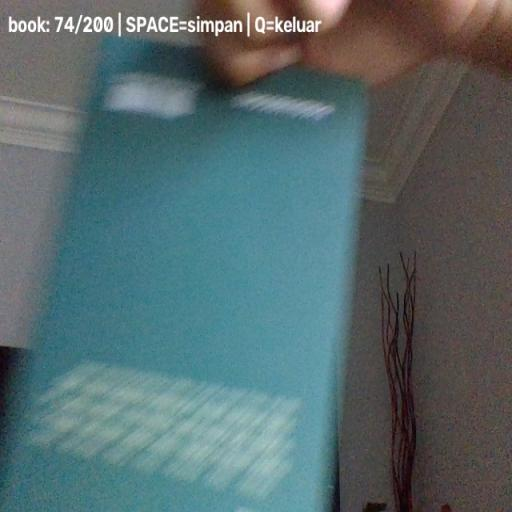Book: (0, 33, 366, 512)
